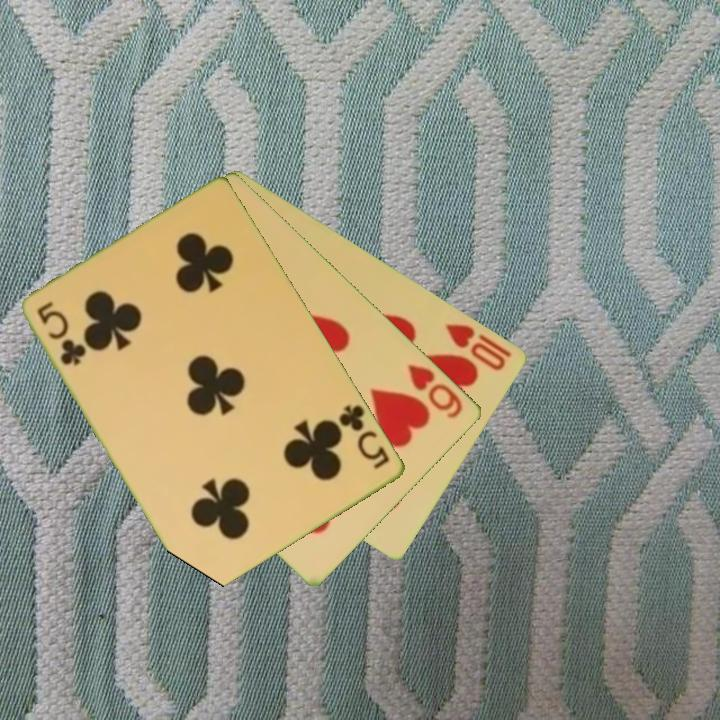10h: (442, 320, 515, 374)
5c: (335, 401, 394, 472), (34, 298, 89, 369)
6h: (404, 360, 467, 422)
